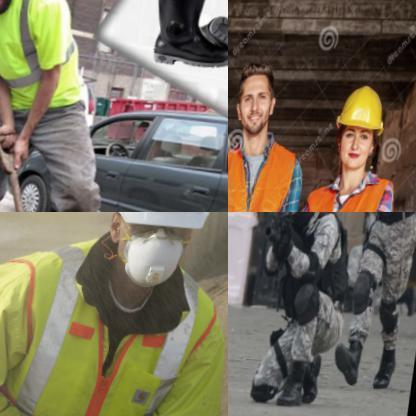vest: (0, 231, 227, 415), (0, 0, 106, 117), (271, 212, 360, 309), (228, 136, 306, 211)
